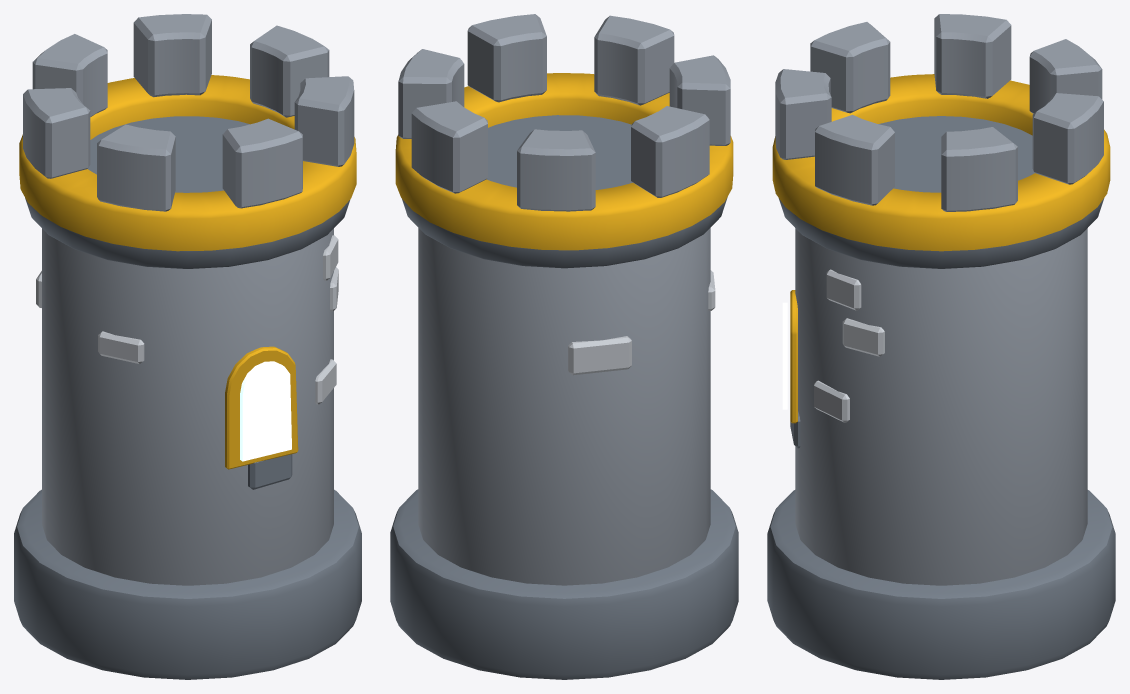
The model's file is castelo_torre_baixa.glb.
3 views of the same model, side by side, from view 1: azimuth 30°, elevation 25°; view 2: azimuth 150°, elevation 25°; view 3: azimuth 270°, elevation 25° (orthographic).
Visible parts, largest first — view 1: castelo_torre_baixa; view 2: castelo_torre_baixa; view 3: castelo_torre_baixa.
Part boxes in pixels (x1,y1,x2,y2): castelo_torre_baixa: [14, 14, 361, 679]; castelo_torre_baixa: [390, 14, 738, 679]; castelo_torre_baixa: [767, 14, 1115, 679].
Size of the model in its own units: 2.74 by 4.59 by 2.74.
2 materials, 1 textured.
